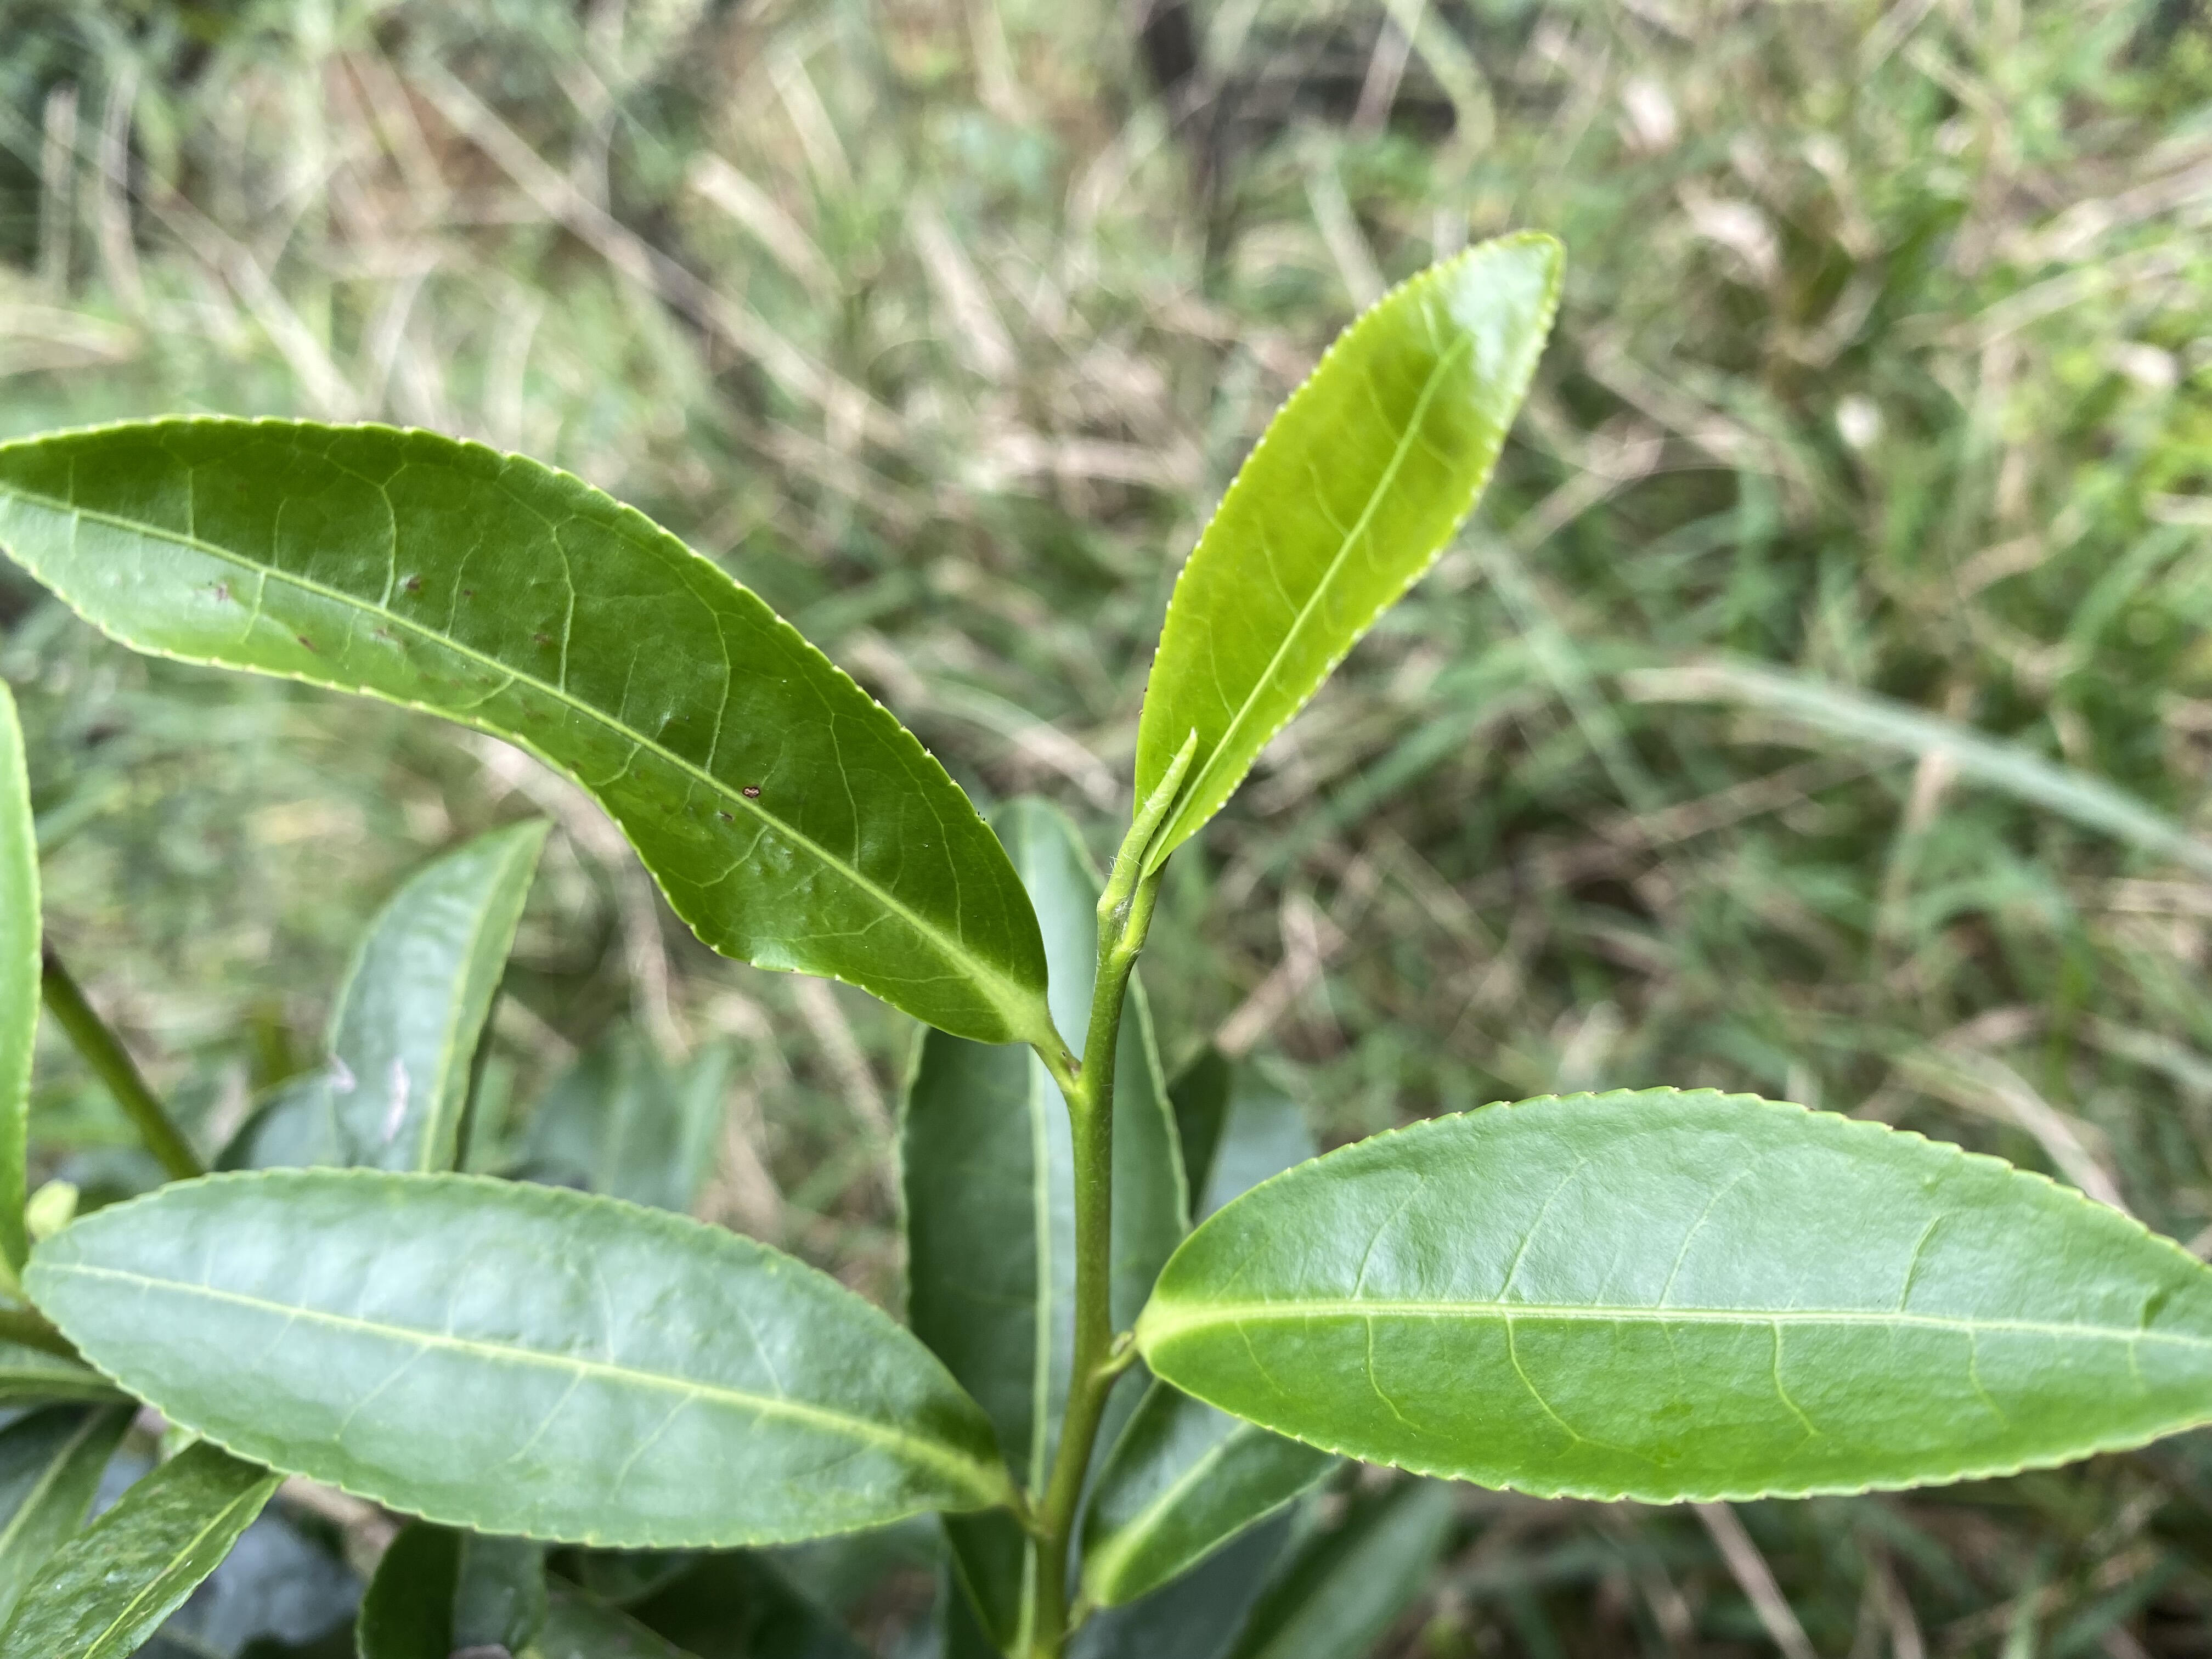healthy: (1137, 1082, 2209, 1506), (17, 1164, 1003, 1549), (1134, 228, 1568, 884)
tanju_low: (0, 420, 1052, 1044)
